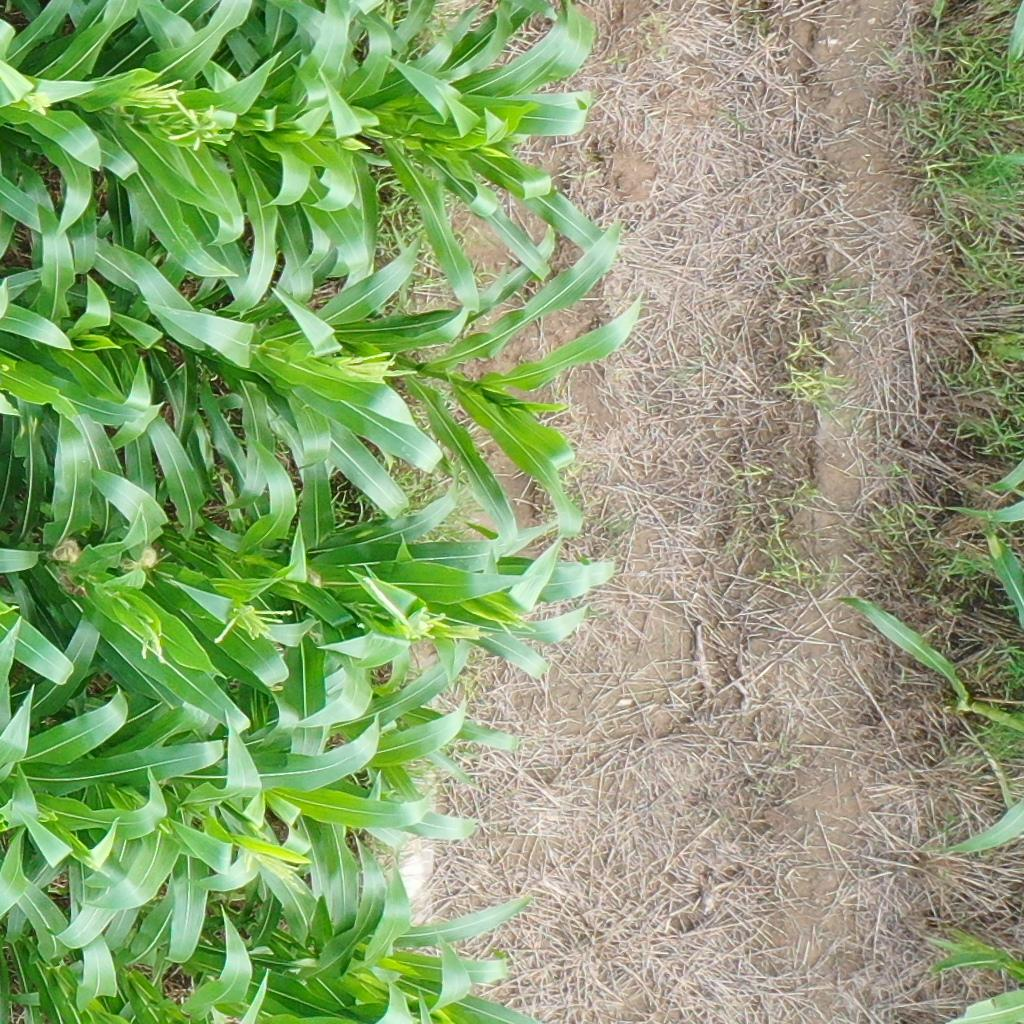Tassel: (364, 577, 490, 644), (115, 73, 223, 151), (239, 821, 312, 898), (318, 347, 421, 386), (209, 604, 294, 648), (135, 608, 172, 670), (499, 606, 537, 642), (25, 85, 55, 119)
